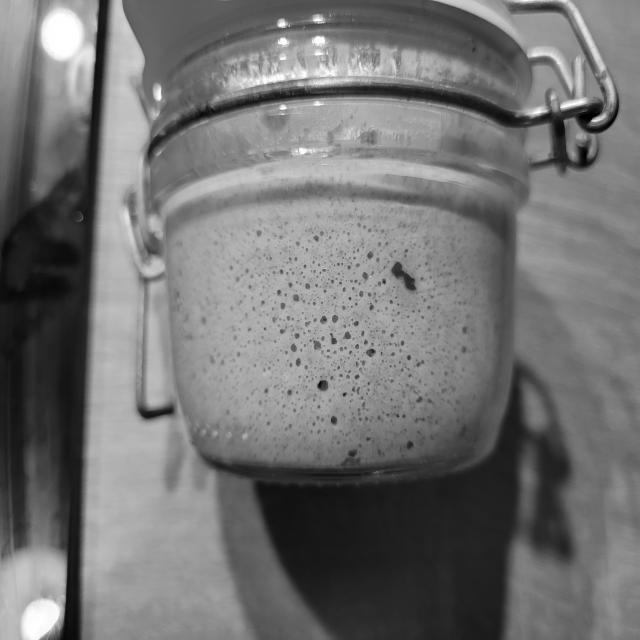bubble: (392, 261, 417, 290), (317, 380, 328, 391), (366, 348, 376, 357), (348, 450, 358, 458), (330, 333, 337, 344), (406, 441, 414, 450), (314, 341, 321, 350), (290, 343, 297, 352), (416, 360, 425, 367), (344, 331, 351, 339), (332, 314, 339, 322), (320, 315, 327, 323), (304, 320, 312, 327), (367, 251, 374, 258), (416, 396, 423, 403), (331, 416, 337, 424), (462, 326, 468, 334), (461, 345, 467, 353), (363, 272, 369, 279), (293, 294, 299, 301), (256, 229, 262, 236), (296, 358, 301, 366), (279, 328, 285, 334), (356, 221, 362, 227), (356, 247, 362, 253), (305, 282, 310, 289), (280, 302, 285, 309), (271, 316, 276, 323), (370, 303, 375, 310), (355, 343, 360, 350), (314, 235, 319, 241), (295, 333, 300, 339), (287, 389, 292, 395), (288, 281, 293, 287), (359, 290, 364, 296), (367, 226, 372, 232), (362, 223, 367, 229), (235, 276, 240, 282), (304, 364, 309, 370), (338, 372, 343, 378), (354, 320, 359, 326), (355, 261, 360, 267), (382, 278, 387, 284), (377, 280, 382, 286), (356, 386, 360, 393), (455, 354, 459, 361), (295, 240, 300, 245), (342, 392, 347, 397), (355, 361, 360, 366), (337, 365, 342, 370), (329, 376, 334, 381), (277, 289, 281, 295), (261, 299, 265, 305), (264, 388, 268, 394), (342, 286, 346, 292), (407, 354, 411, 360), (337, 261, 341, 267), (364, 339, 368, 345), (362, 360, 366, 366), (279, 269, 283, 274), (320, 230, 324, 235), (322, 268, 327, 272), (245, 268, 249, 273), (323, 288, 327, 293), (339, 346, 343, 351), (321, 336, 325, 341), (355, 374, 359, 379), (389, 299, 393, 304), (391, 333, 395, 338), (342, 305, 346, 310), (405, 248, 409, 253), (378, 241, 382, 246), (361, 330, 365, 335), (354, 278, 358, 283), (287, 315, 290, 321), (348, 264, 351, 270), (285, 350, 288, 356), (352, 386, 355, 392), (353, 254, 356, 260), (303, 264, 307, 268), (250, 274, 254, 278), (368, 292, 372, 296), (391, 352, 395, 356), (390, 379, 394, 383), (382, 330, 386, 334), (312, 301, 316, 305), (295, 256, 298, 261), (339, 280, 342, 285), (347, 374, 350, 379), (402, 340, 405, 345), (371, 341, 374, 346), (289, 256, 292, 260), (289, 363, 292, 367), (315, 282, 318, 286), (331, 279, 334, 283), (349, 350, 352, 354), (349, 296, 352, 300), (349, 279, 353, 282), (313, 269, 316, 272), (345, 346, 347, 350), (377, 257, 379, 261), (333, 295, 335, 299), (359, 281, 361, 285), (313, 260, 315, 263)
